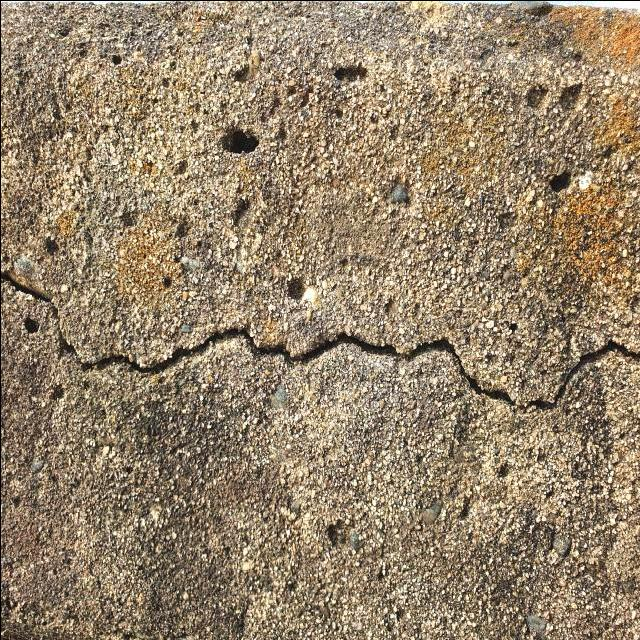SurfaceCrack: (1, 250, 640, 460)
